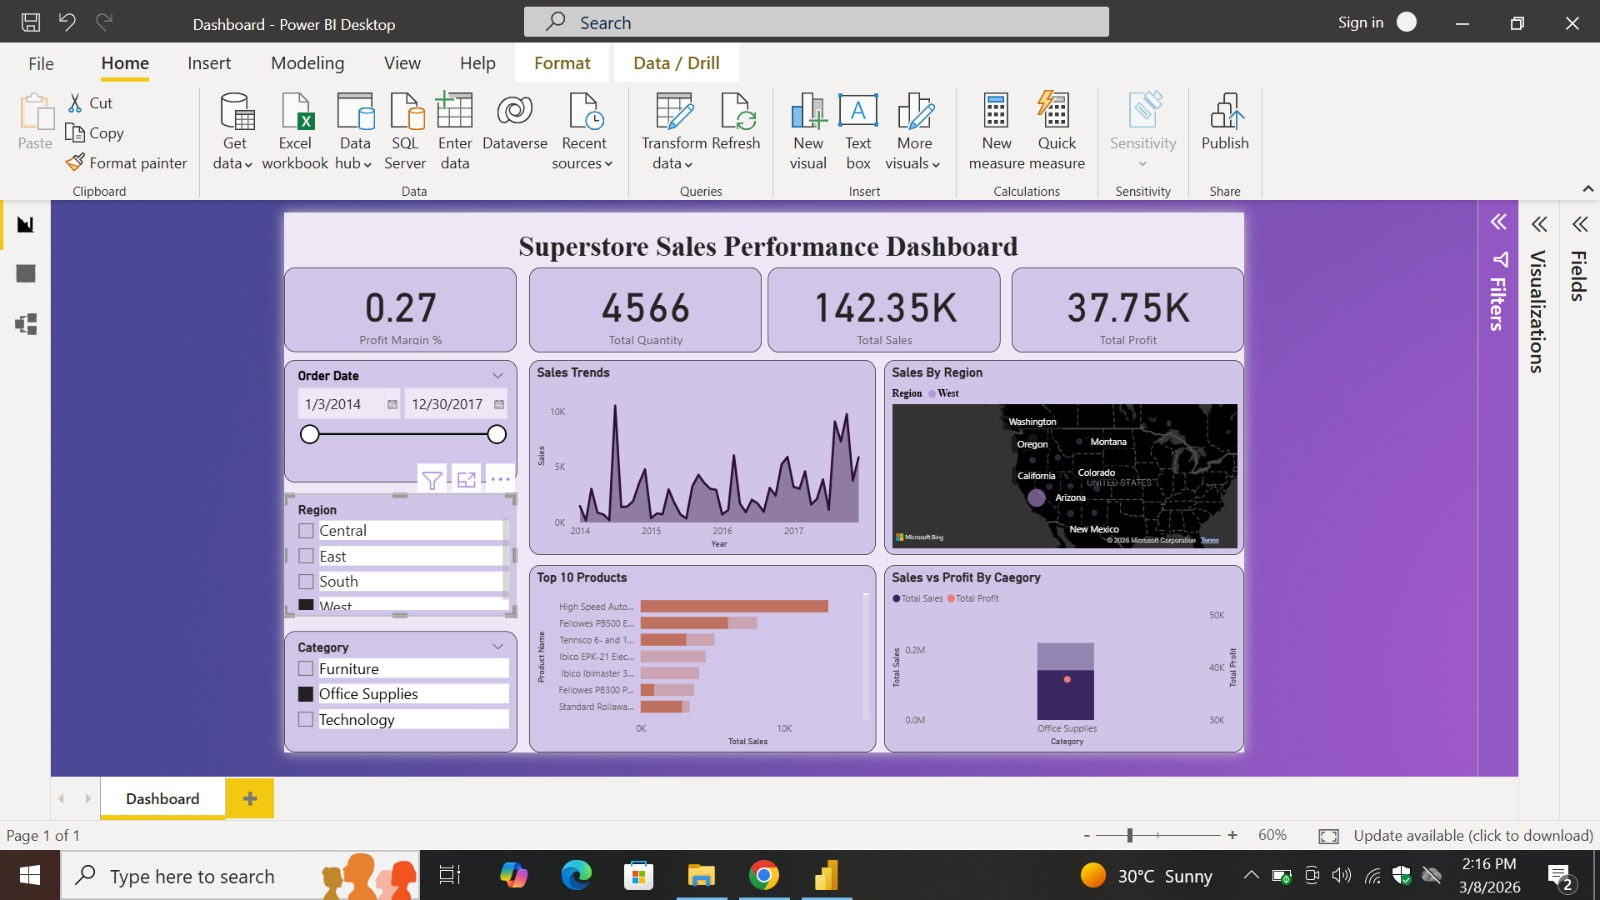

Layout of this report page (visuals, bound fields, positions):
{"tool":"powerbi","page":{"name":"Dashboard","canvas":[1280,720],"ordinal":0},"visuals":[{"type":"textbox","box":[9.4,0,1271.3,73.4],"z":0},{"type":"map","title":"Sales By Region","fields":{"Category":["Sample - Superstore.State"],"Size":["Sum(Sample - Superstore.Sales)"],"Series":["Sample - Superstore.Region"]},"box":[800,196.7,480,260],"z":1000},{"type":"areaChart","title":"Sales Trends","fields":{"Y":["Sum(Sample - Superstore.Sales)"],"Category":["Sample - Superstore.Order Date.Variation.Date Hierarchy.Year","Sample - Superstore.Order Date.Variation.Date Hierarchy.Month"]},"box":[326.7,196.7,461.7,260],"z":2000},{"type":"lineClusteredColumnComboChart","title":"Sales vs Profit By Caegory","fields":{"Category":["Sample - Superstore.Category"],"Y":["Sample - Superstore.Total Sales"],"Y2":["Sample - Superstore.Total Profit"]},"box":[800,470,480,250],"z":3000},{"type":"barChart","title":"Top 10 Products","fields":{"Category":["Sample - Superstore.Product Name"],"Y":["Sample - Superstore.Total Sales"]},"box":[326.4,470.4,462.4,250],"z":4000},{"type":"slicer","fields":{"Values":["Sample - Superstore.Order Date.Variation.Date Hierarchy.Year"]},"box":[0,196.8,310.4,163.2],"z":5000},{"type":"slicer","fields":{"Values":["Sample - Superstore.Region"]},"box":[0,375,310,163.3],"z":6000},{"type":"slicer","fields":{"Values":["Sample - Superstore.Category"]},"box":[0,558.4,310.4,161.6],"z":7000},{"type":"card","fields":{"Values":["Sample - Superstore.Total Profit"]},"box":[970,73.3,310,113.3],"z":8000},{"type":"card","fields":{"Values":["Sample - Superstore.Total Sales"]},"box":[645,73.3,310,113.3],"z":9000},{"type":"card","fields":{"Values":["Sample - Superstore.Total Quantity"]},"box":[326.7,73.3,310,113.3],"z":10000},{"type":"card","fields":{"Values":["Sample - Superstore.Profit Margin %"]},"box":[0,72.6,309.7,112.9],"z":11000}]}

Visuals, with their boxes on the page's 1280x720 design canvas (x1, y1, x2, y2). These are canvas units, not pixel positions in the 1600x900 screenshot, which may show the page scaled, cropped or inside an application window:
textbox: {"x1": 9, "y1": 0, "x2": 1281, "y2": 73}
"Sales By Region" map: {"x1": 800, "y1": 197, "x2": 1280, "y2": 457}
"Sales Trends" areaChart: {"x1": 327, "y1": 197, "x2": 788, "y2": 457}
"Sales vs Profit By Caegory" lineClusteredColumnComboChart: {"x1": 800, "y1": 470, "x2": 1280, "y2": 720}
"Top 10 Products" barChart: {"x1": 326, "y1": 470, "x2": 789, "y2": 720}
slicer - Sample - Superstore.Order Date.Variation.Date Hierarchy.Year: {"x1": 0, "y1": 197, "x2": 310, "y2": 360}
slicer - Sample - Superstore.Region: {"x1": 0, "y1": 375, "x2": 310, "y2": 538}
slicer - Sample - Superstore.Category: {"x1": 0, "y1": 558, "x2": 310, "y2": 720}
card - Sample - Superstore.Total Profit: {"x1": 970, "y1": 73, "x2": 1280, "y2": 187}
card - Sample - Superstore.Total Sales: {"x1": 645, "y1": 73, "x2": 955, "y2": 187}
card - Sample - Superstore.Total Quantity: {"x1": 327, "y1": 73, "x2": 637, "y2": 187}
card - Sample - Superstore.Profit Margin %: {"x1": 0, "y1": 73, "x2": 310, "y2": 186}
